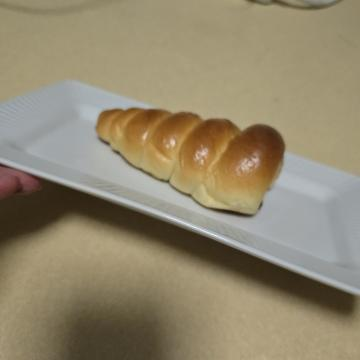cream horn: (86, 63, 236, 286)
